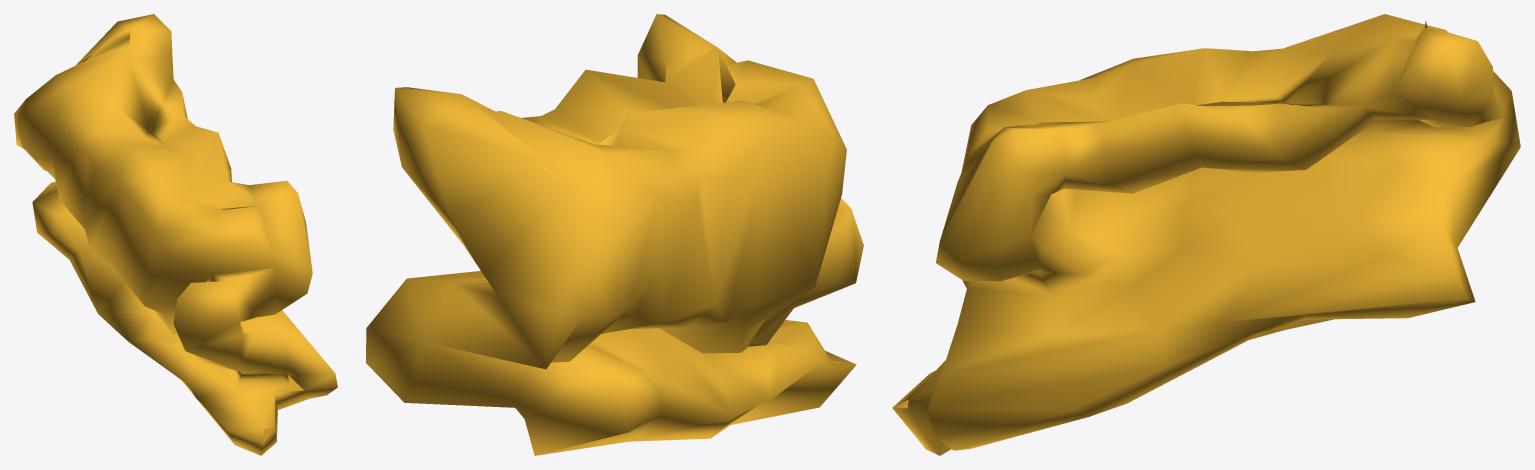
File: nervoso-cingulate-gyrus-and-sulcus-middle-anterior-part-l.glb
The picture shows the model from 3 angles, left to right: view 1: azimuth 30°, elevation 25°; view 2: azimuth 150°, elevation 25°; view 3: azimuth 270°, elevation 25°; orthographic projection. The views are drawn at different scales.
Visible parts, largest first — view 1: Cingulate gyrus and sulcus (Middle anterior part).l; view 2: Cingulate gyrus and sulcus (Middle anterior part).l; view 3: Cingulate gyrus and sulcus (Middle anterior part).l.
Part boxes in pixels (x1,y1,x2,y2): Cingulate gyrus and sulcus (Middle anterior part).l: [14, 14, 337, 455]; Cingulate gyrus and sulcus (Middle anterior part).l: [366, 14, 863, 455]; Cingulate gyrus and sulcus (Middle anterior part).l: [892, 14, 1520, 455].
Size of the model in its own units: 0.0145 by 0.0289 by 0.0367.
